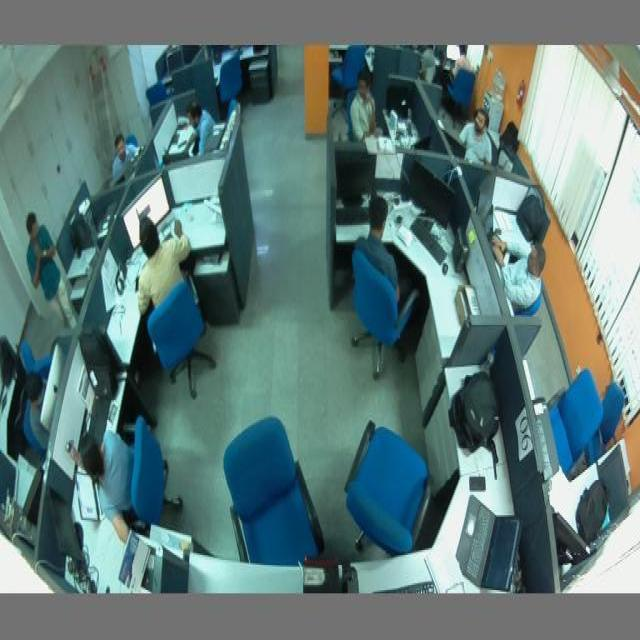chair: (223, 414, 322, 569), (342, 418, 436, 555), (346, 251, 422, 379), (144, 278, 220, 398), (548, 365, 604, 460), (332, 45, 367, 108), (600, 385, 626, 438), (219, 59, 245, 103), (511, 292, 547, 323), (20, 338, 50, 374), (449, 70, 476, 107), (146, 82, 170, 103)
keyboard: (410, 216, 450, 269), (369, 575, 438, 593), (331, 203, 374, 225)
laptop: (455, 490, 521, 595), (73, 466, 112, 527)
monitor: (408, 160, 471, 235), (119, 172, 174, 248), (548, 505, 592, 575), (47, 492, 88, 565), (333, 148, 378, 198), (474, 171, 501, 222)
person: (80, 430, 140, 542), (24, 210, 76, 333), (134, 212, 192, 318), (354, 193, 404, 310), (489, 235, 546, 308), (182, 102, 218, 162), (110, 124, 146, 184), (352, 70, 379, 143), (460, 112, 494, 168), (28, 372, 50, 456)
phone: (466, 472, 490, 492)
